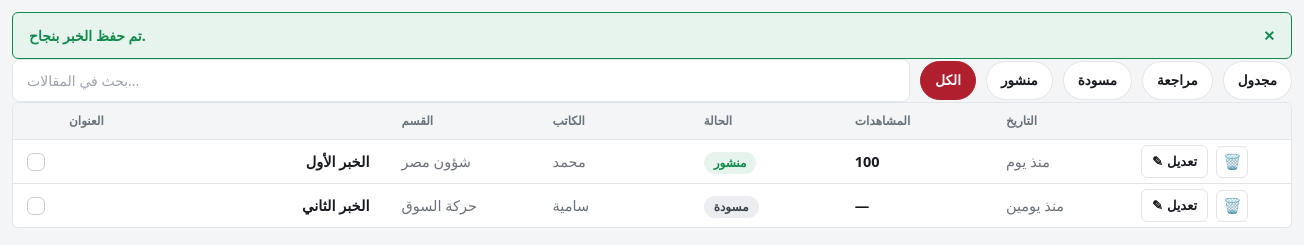
Scenario: ArticlesTable save confirmation › closes when dismissed
Click the button named "إغلاق". click: click(1269, 36)
box: [1263,25,1275,46]
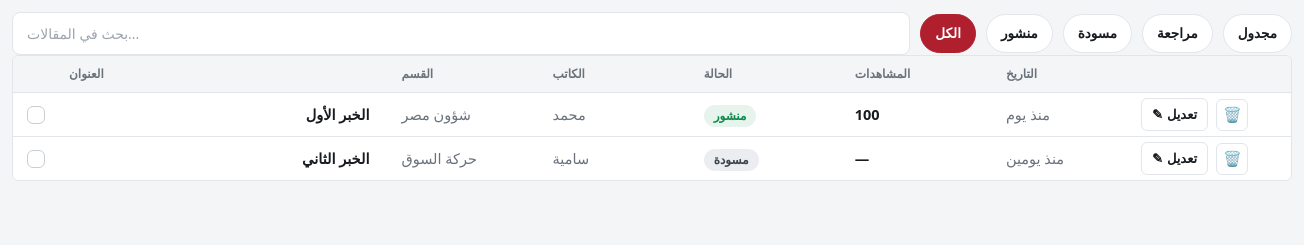
expect the message "تم حفظ الخبر بنجاح. ✕" is gone: met
